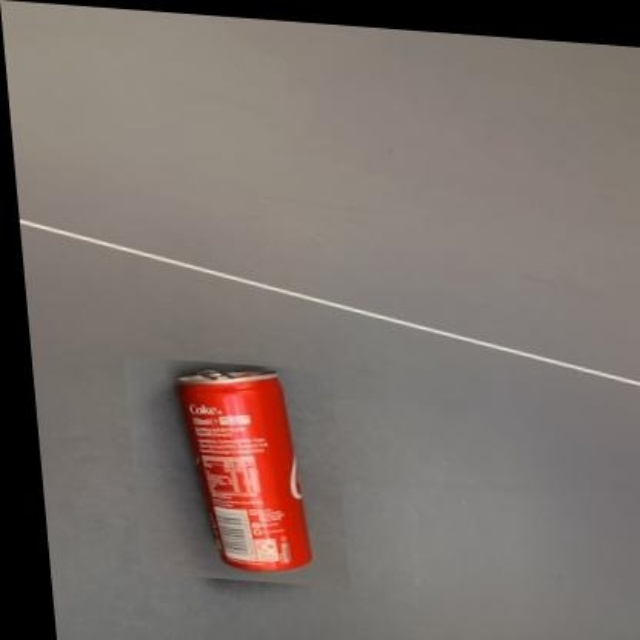trash: (177, 369, 311, 569)
